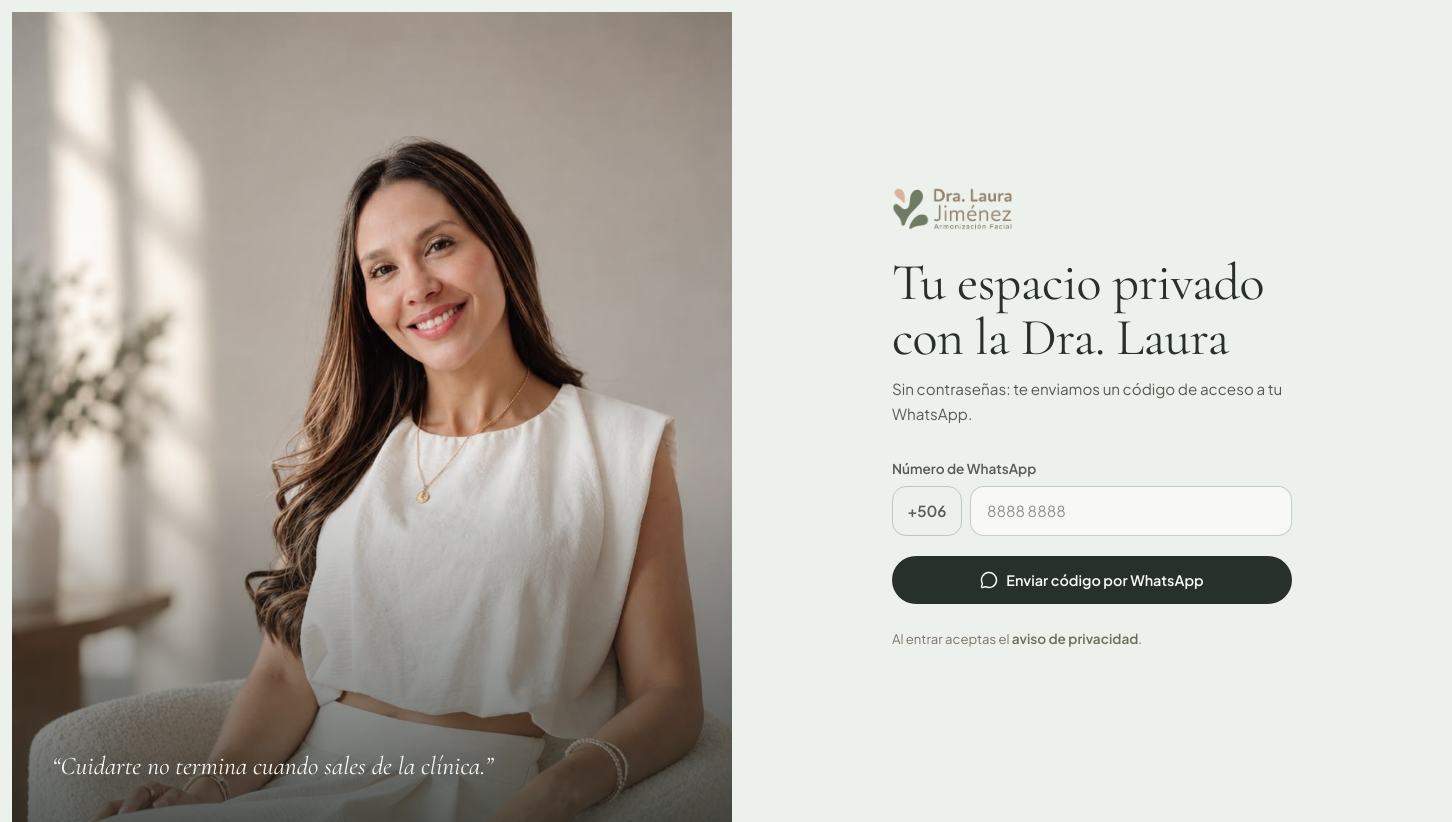
it: <PortalAccess /> (acceso con código de WhatsApp) › después de pedirlo muestra el campo del código, listo para autocompletar
Step 1. Type "8888 0001" into the field labelled "Número de WhatsApp" → (1131, 511), box 970,486 -> 1292,536
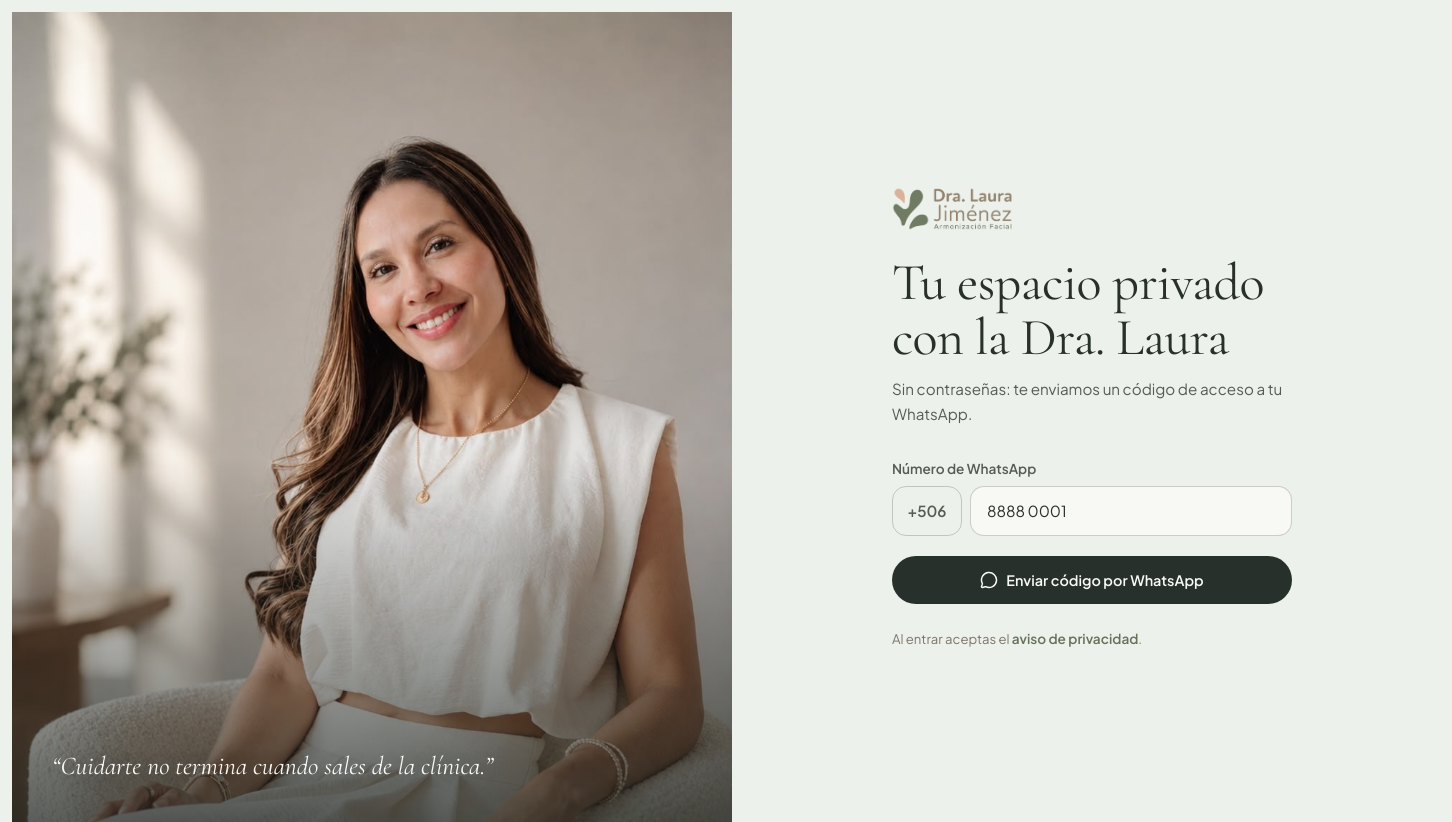
Step 2. Click the button "Enviar código por WhatsApp" → click(1092, 580), box 892,556 -> 1292,604
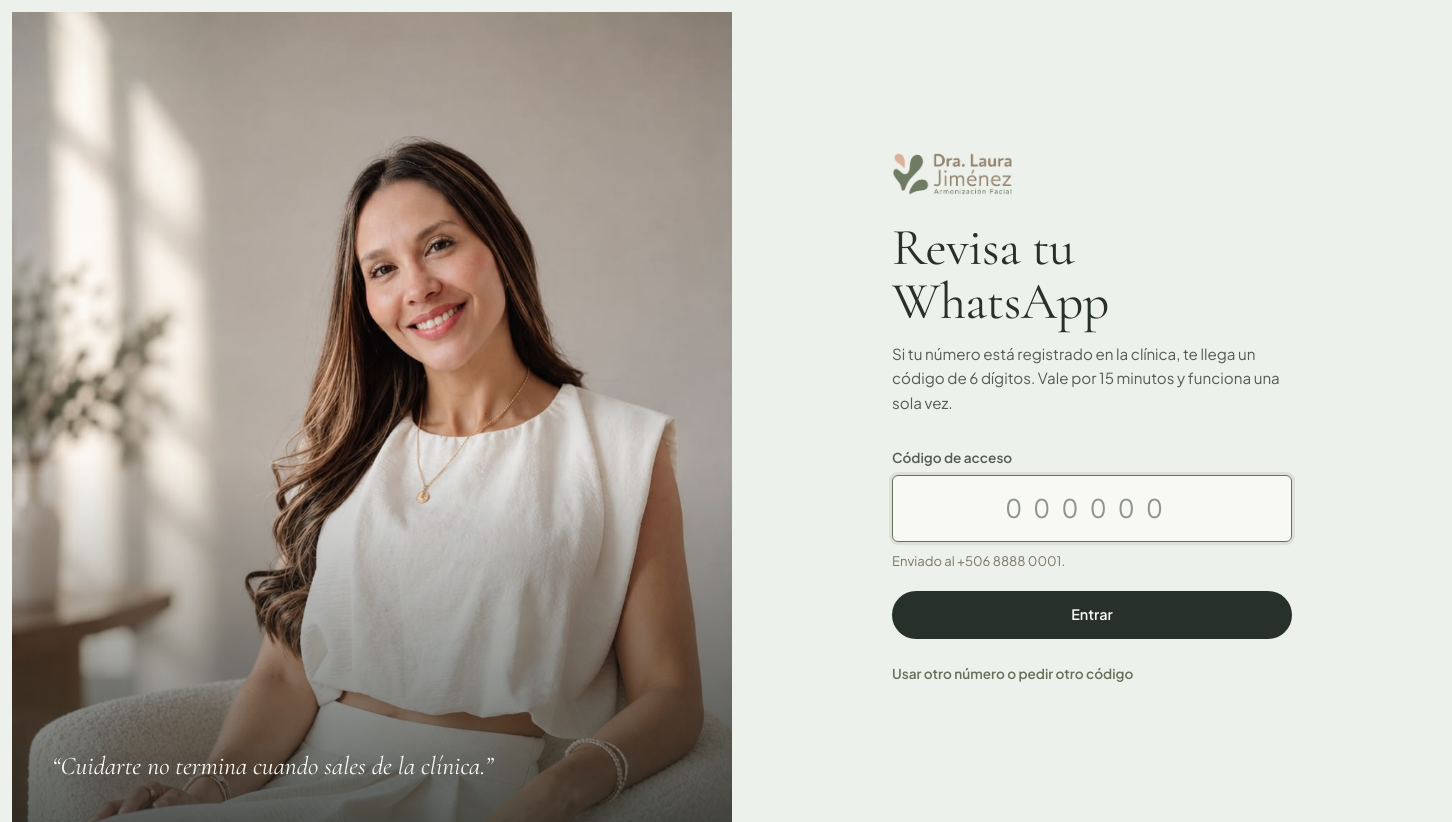
Expected: the message shows "código de 6 dígitos", 892,344 -> 1280,412
